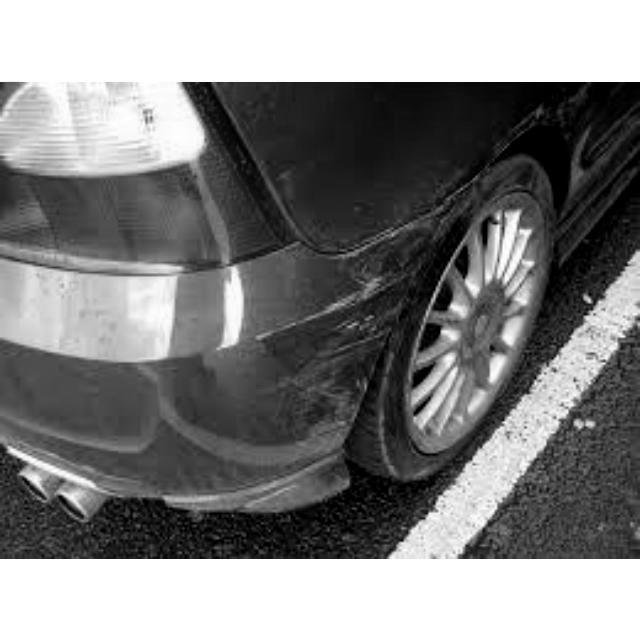rear-bumper-dent: (45, 249, 416, 487)
